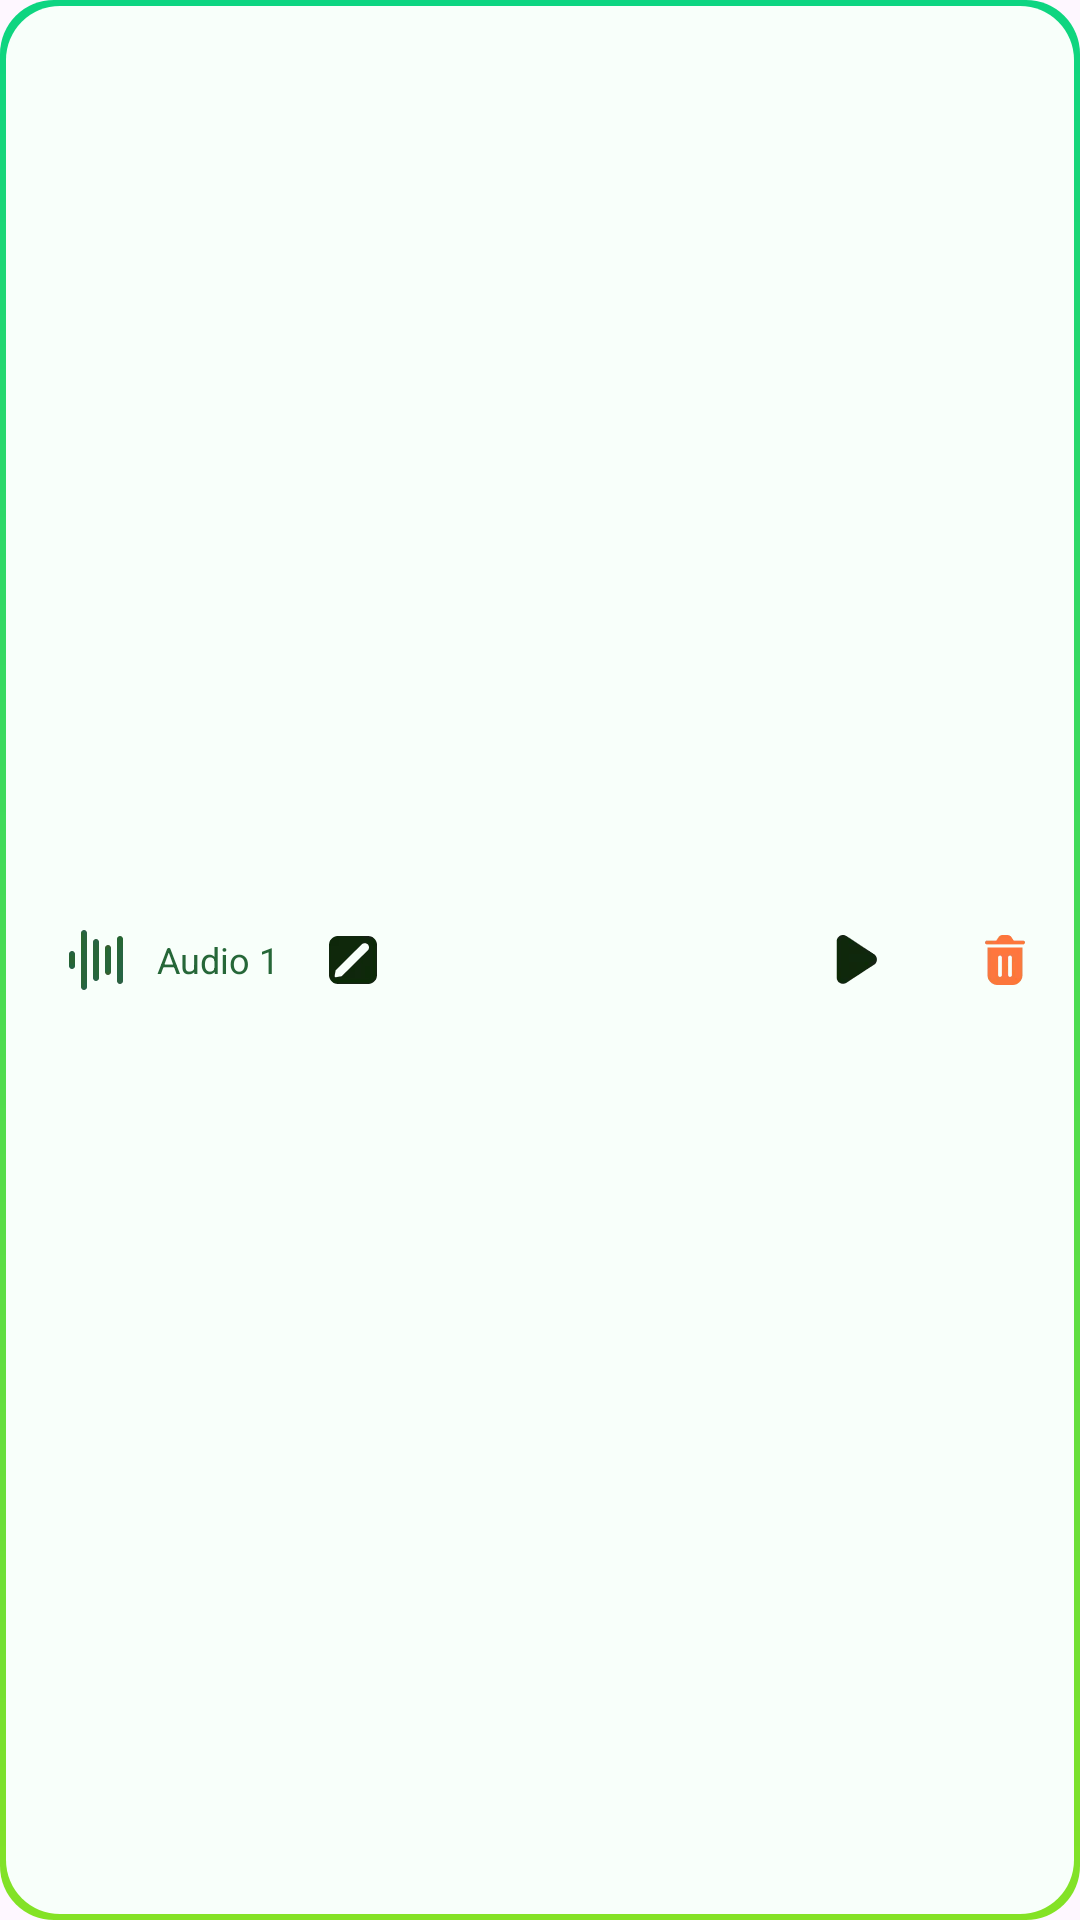

Screen size 1080px×1920px. Icon name, then its box in pixels as (x1, y1, x2, y2):
delete: (985, 935, 1025, 985)
edit: (329, 936, 377, 984)
time play: (836, 935, 877, 984)
